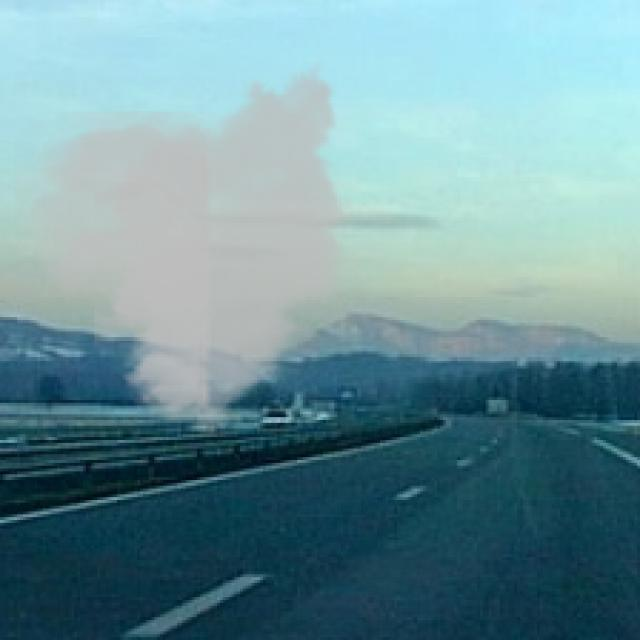smoke: (14, 51, 360, 446)
